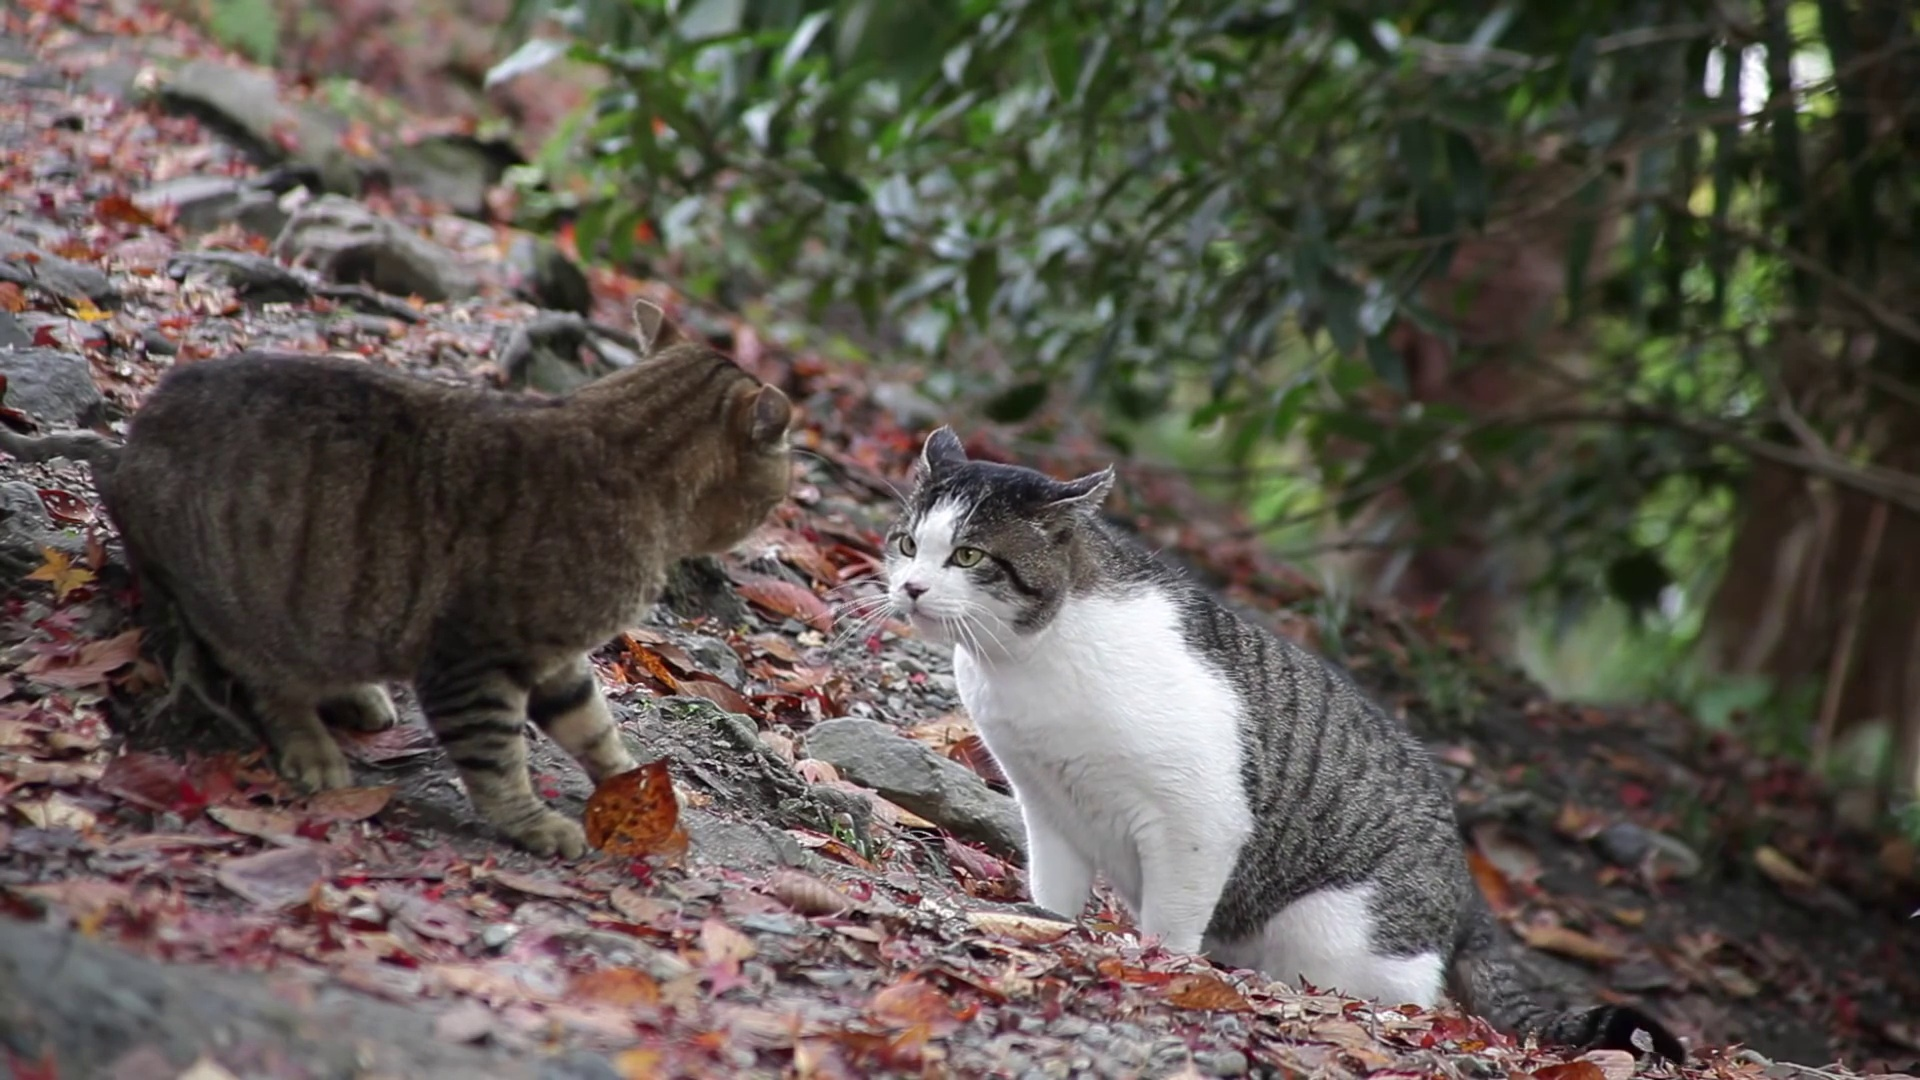black-white: (884, 426, 1522, 1009)
pure black: (117, 299, 793, 861)
